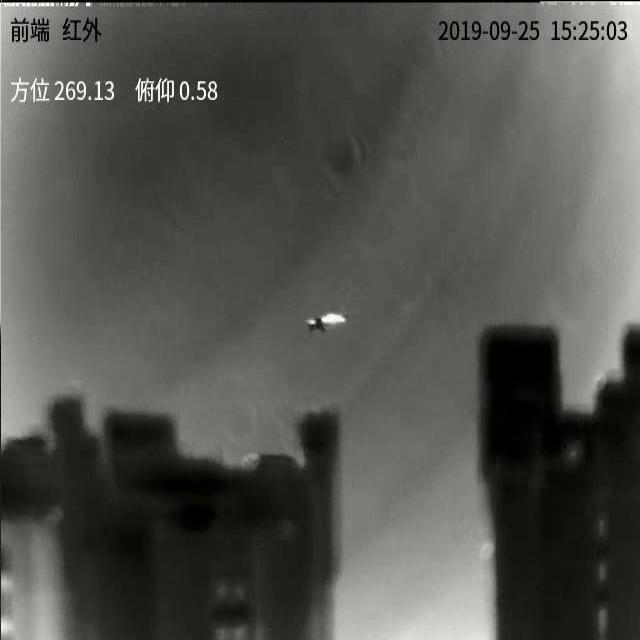drone: (304, 312, 347, 333)
